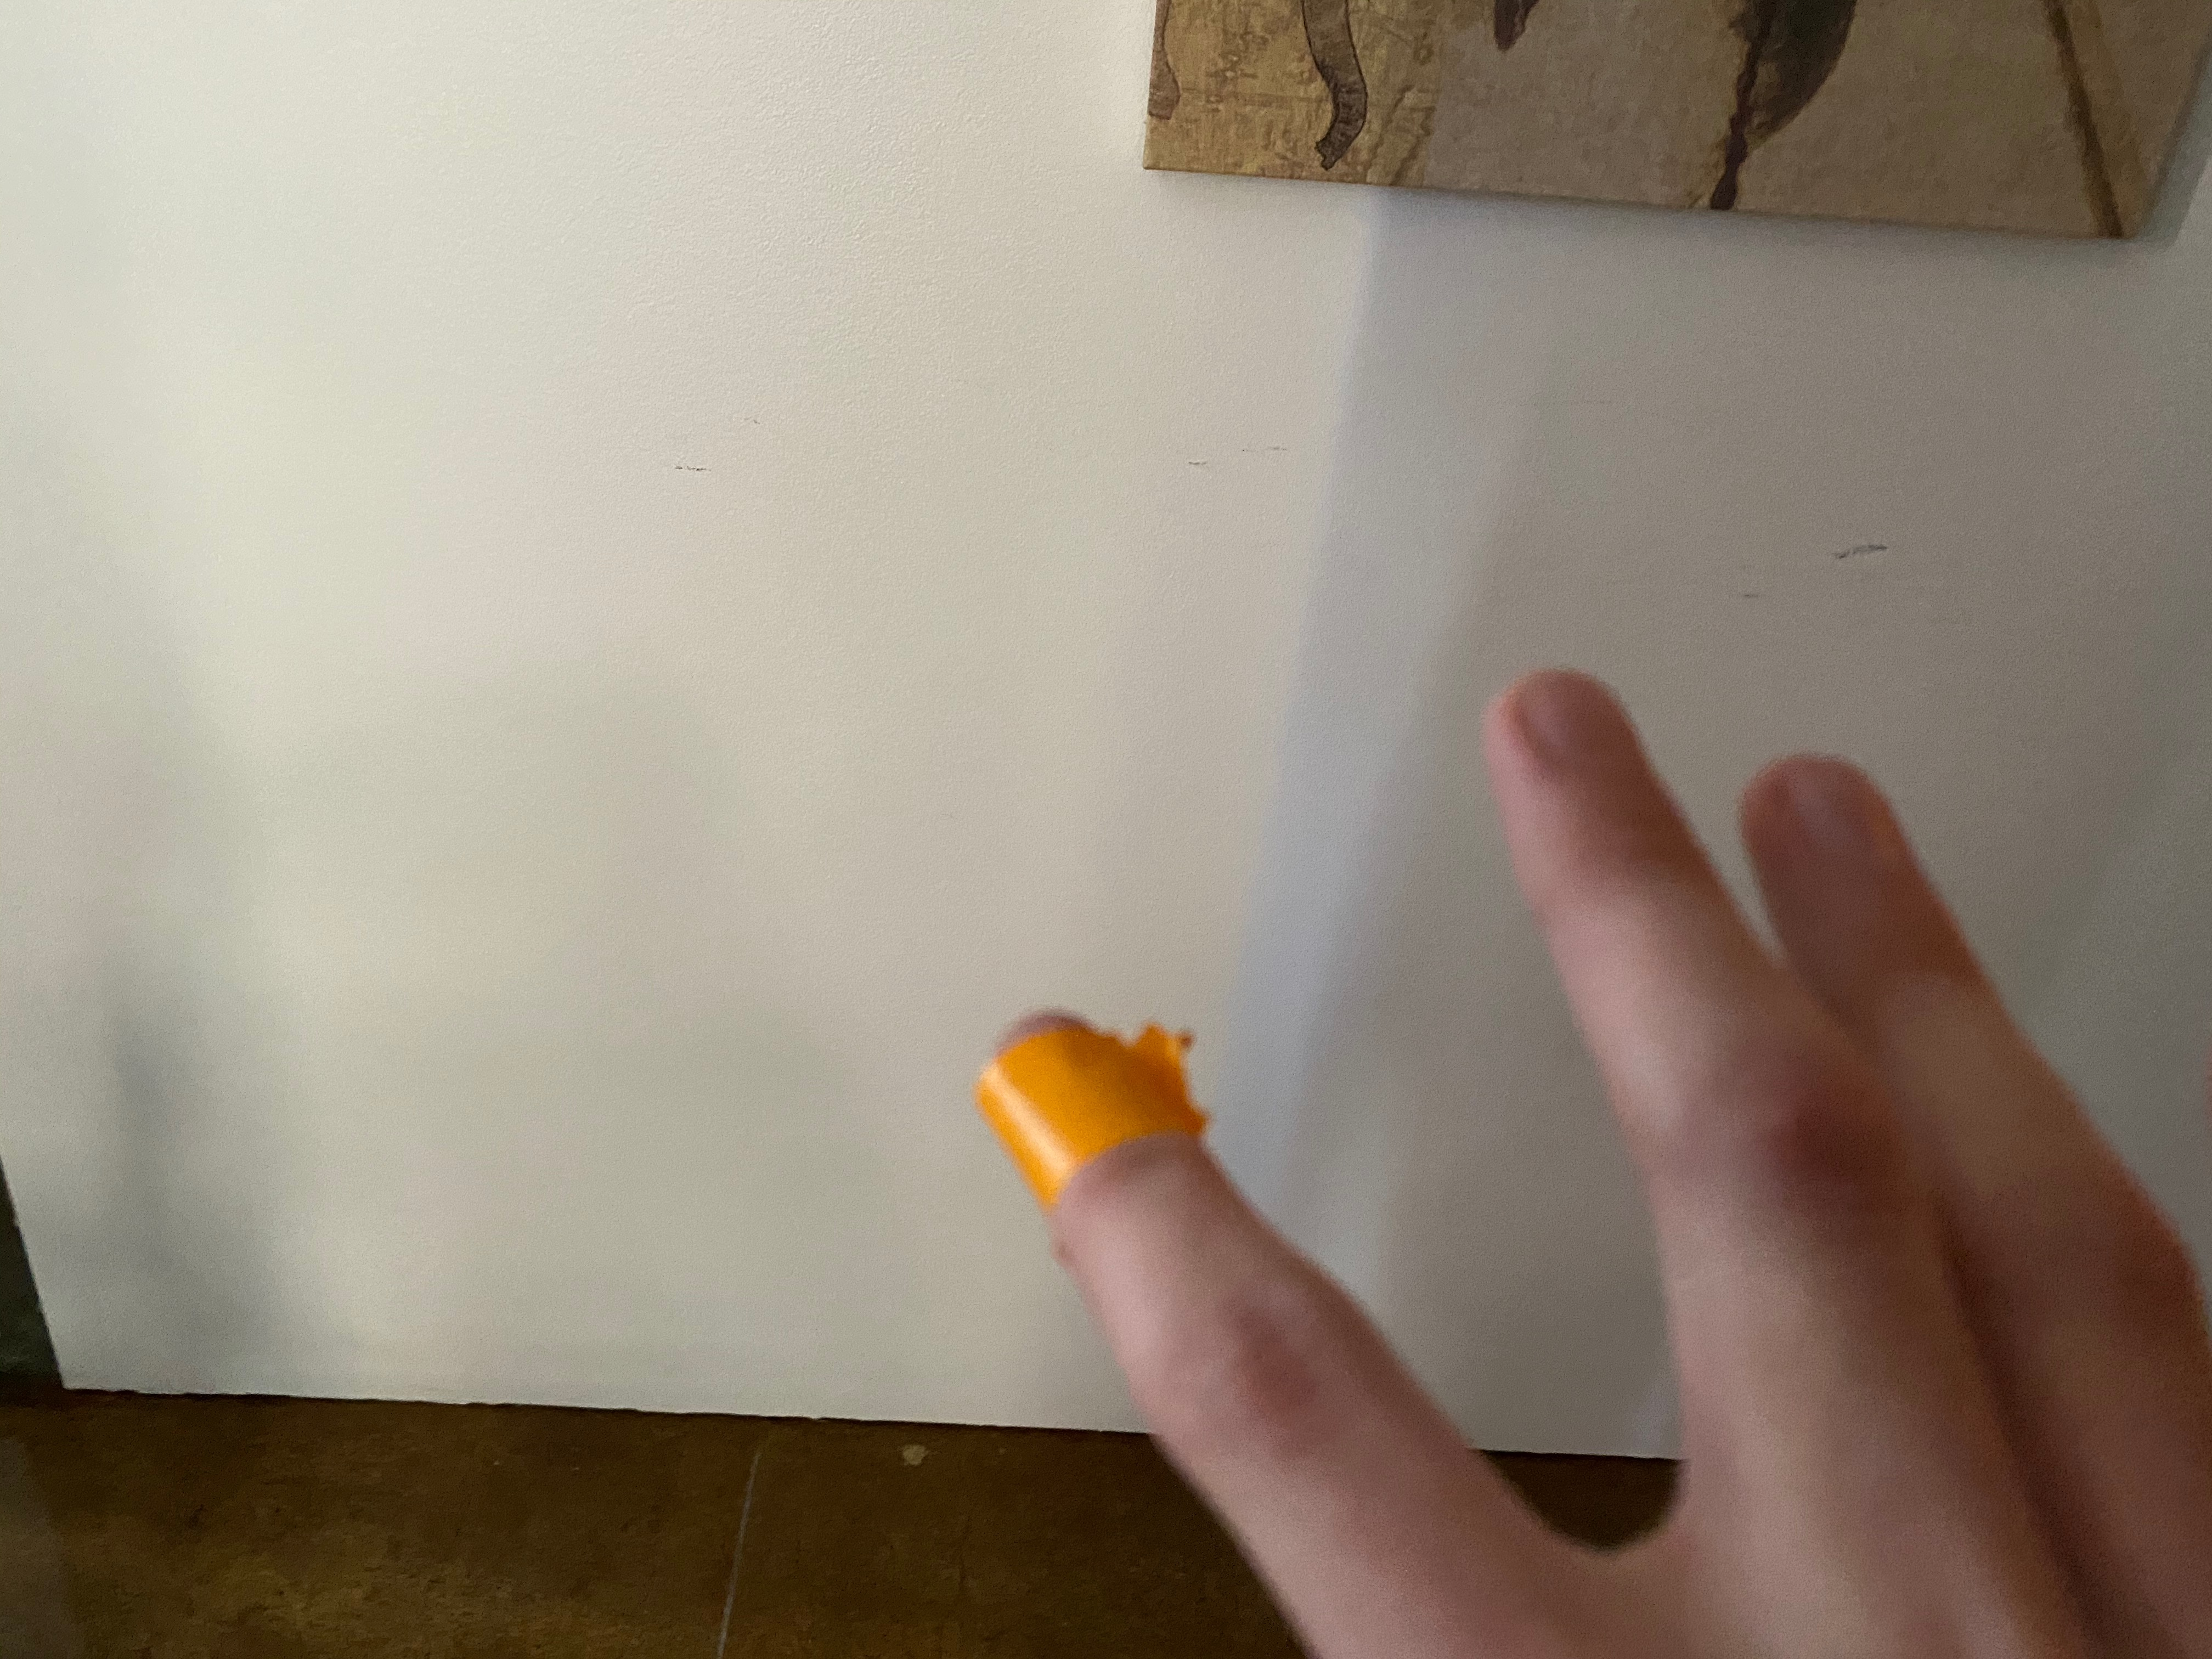fingertip: (948, 993, 1233, 1199)
